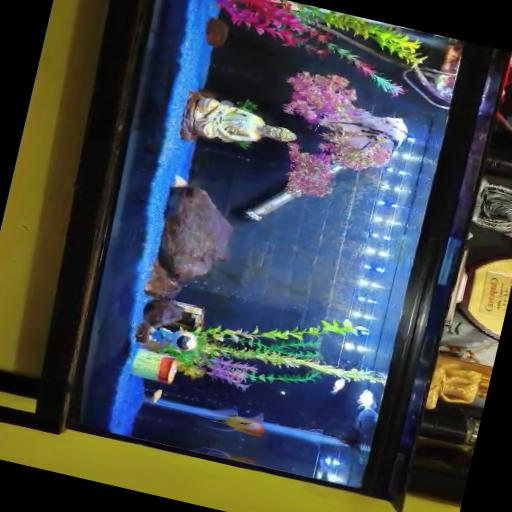Fish: (328, 111, 406, 153), (196, 408, 264, 435), (190, 446, 256, 464), (355, 389, 377, 423), (356, 389, 373, 408), (329, 378, 345, 393), (151, 389, 161, 402)
